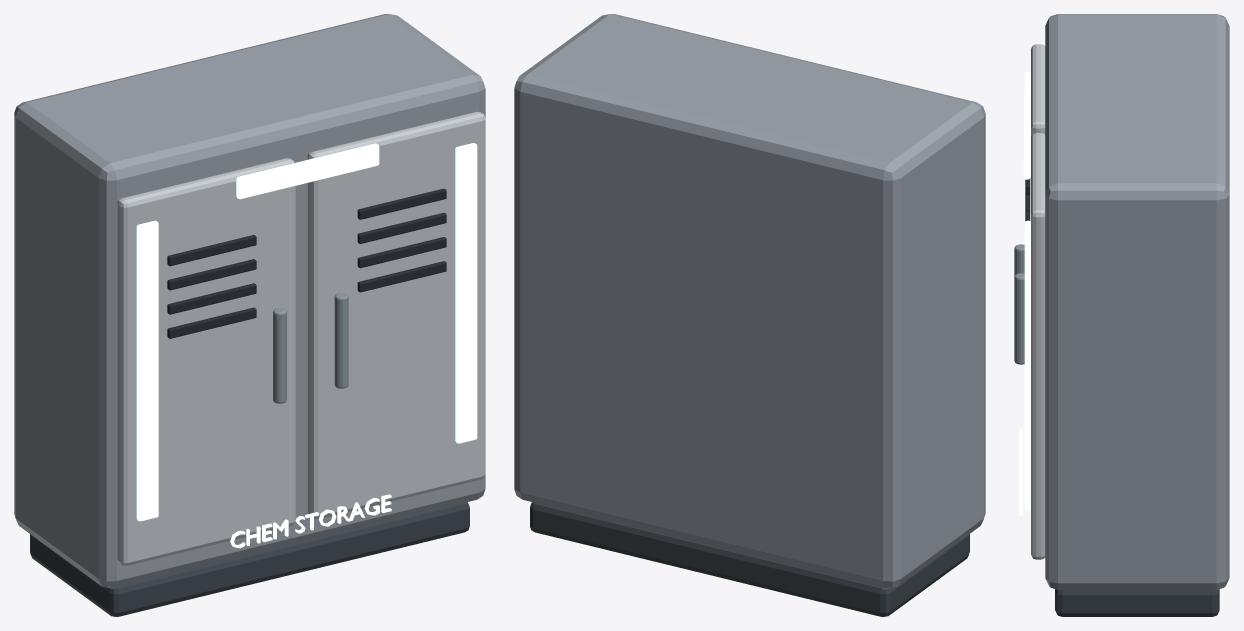
File: machine_storage_locker.glb
The picture shows the model from 3 angles, left to right: view 1: azimuth 30°, elevation 25°; view 2: azimuth 150°, elevation 25°; view 3: azimuth 270°, elevation 25°; orthographic projection. The views are drawn at different scales.
Visible parts, largest first — view 1: MCH_Locker__Locker_Case, MCH_Locker__Door_Left, MCH_Locker__Door_Right, MCH_Locker__Plinth, MCH_Locker__Door_Left_Accent, MCH_Locker__Door_Right_Accent, MCH_Locker__Status_Strip, MCH_Locker__Title_Text, MCH_Locker__Handle_Right, MCH_Locker__Handle_Left, MCH_Locker__Door_Right_Vent_4, MCH_Locker__Door_Left_Vent_1 (+6 smaller); view 2: MCH_Locker__Locker_Case, MCH_Locker__Plinth; view 3: MCH_Locker__Locker_Case, MCH_Locker__Door_Right, MCH_Locker__Plinth, MCH_Locker__Door_Right_Accent, MCH_Locker__Door_Left, MCH_Locker__Handle_Right, MCH_Locker__Status_Strip, MCH_Locker__Door_Left_Accent, MCH_Locker__Title_Text, MCH_Locker__Handle_Left.
Part boxes in pixels (x1,y1,x2,y2): MCH_Locker__Locker_Case: (14,14,485,588); MCH_Locker__Door_Left: (117,158,295,565); MCH_Locker__Door_Right: (307,111,485,519); MCH_Locker__Plinth: (30,502,469,616); MCH_Locker__Door_Left_Accent: (136,220,158,521); MCH_Locker__Door_Right_Accent: (455,143,477,443); MCH_Locker__Status_Strip: (236,143,379,199); MCH_Locker__Title_Text: (230,494,391,548); MCH_Locker__Handle_Right: (334,293,348,388); MCH_Locker__Handle_Left: (273,308,286,403); MCH_Locker__Door_Right_Vent_4: (357,261,446,292); MCH_Locker__Door_Left_Vent_1: (167,235,256,266); MCH_Locker__Locker_Case: (514,14,985,588); MCH_Locker__Plinth: (530,502,969,616); MCH_Locker__Locker_Case: (1045,14,1229,589); MCH_Locker__Door_Right: (1031,133,1045,559); MCH_Locker__Plinth: (1055,589,1219,616); MCH_Locker__Door_Right_Accent: (1024,220,1030,511); MCH_Locker__Door_Left: (1031,44,1045,136); MCH_Locker__Handle_Right: (1014,273,1024,364); MCH_Locker__Status_Strip: (1023,95,1030,179); MCH_Locker__Door_Left_Accent: (1024,72,1030,222); MCH_Locker__Title_Text: (1019,429,1022,515); MCH_Locker__Handle_Left: (1014,244,1024,276).
Size of the model in its own units: 1.5 by 1.7 by 0.7586.
